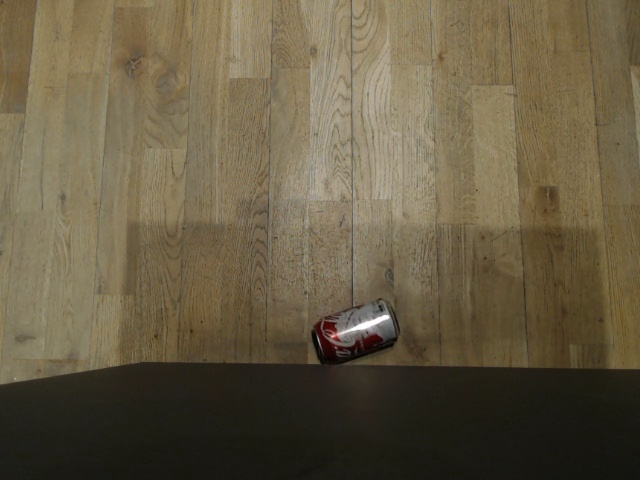cola: (311, 297, 400, 365)
